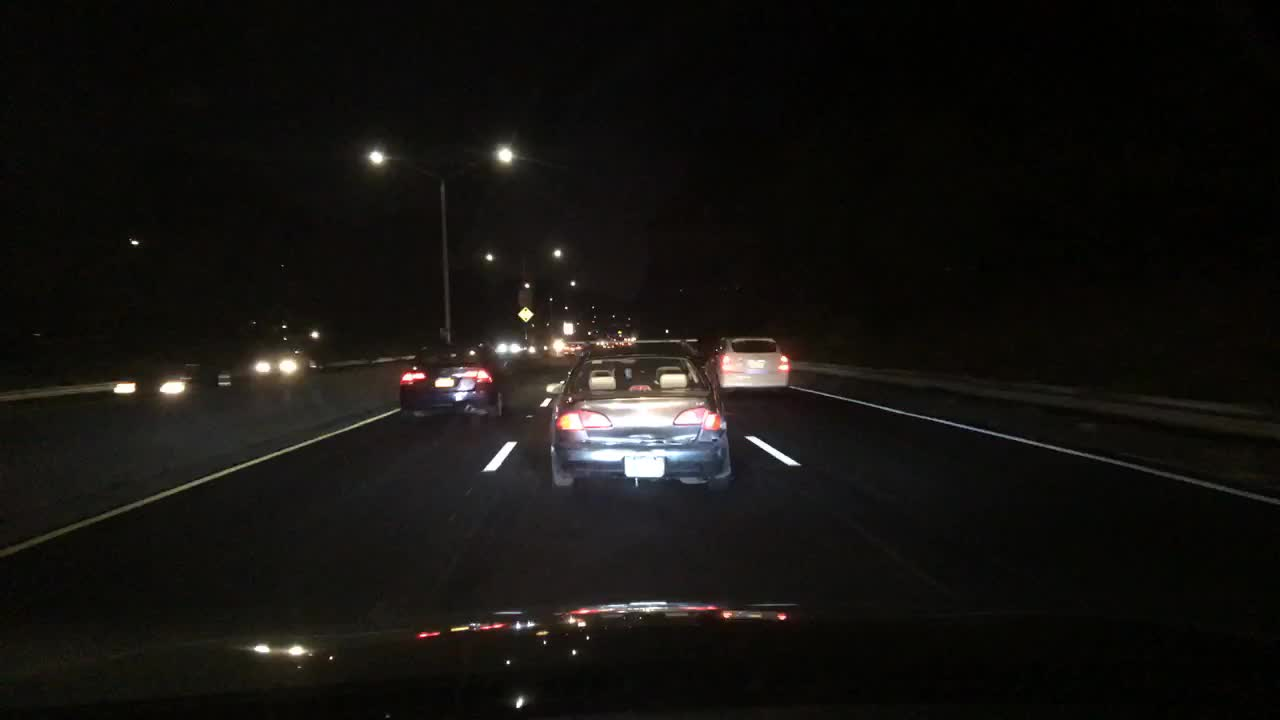car: (544, 346, 738, 500), (395, 335, 514, 431), (107, 354, 233, 400), (708, 332, 795, 398), (629, 336, 724, 385), (247, 343, 323, 377), (557, 338, 591, 358), (495, 338, 529, 353)
traffic sign: (515, 304, 535, 323), (562, 319, 575, 334)
